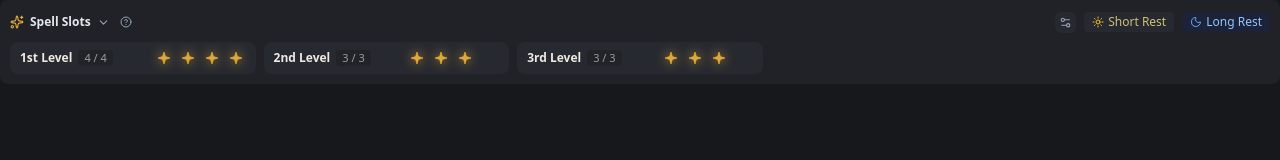
Scenario: SpellSlotTracker › toggles hints for spell slot breakdown
This screenshot has width=1280, height=160.
Note: Spell slot source breakdown hint
Click the button named "Spell slots source breakdown".
click(126, 22)  # box top-left (118, 14), bottom-right (134, 30)
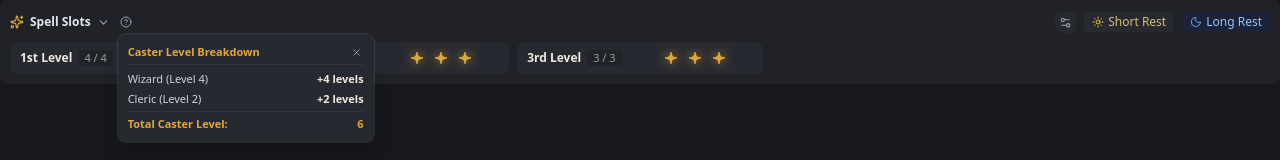
Check: the text "Caster Level Breakdown" is shown, box top-left (128, 44), bottom-right (260, 60)
Check: the text "Wizard (Level 4)" is shown, box top-left (128, 71), bottom-right (208, 87)
Check: the text "Cleric (Level 2)" is shown, box top-left (128, 91), bottom-right (201, 107)
